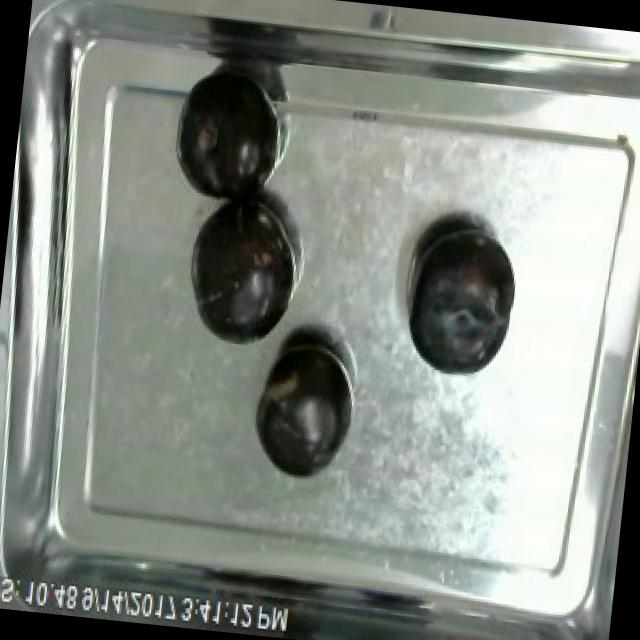Fruit: (398, 218, 526, 382), (180, 190, 304, 350), (167, 66, 285, 215), (245, 329, 356, 487)
